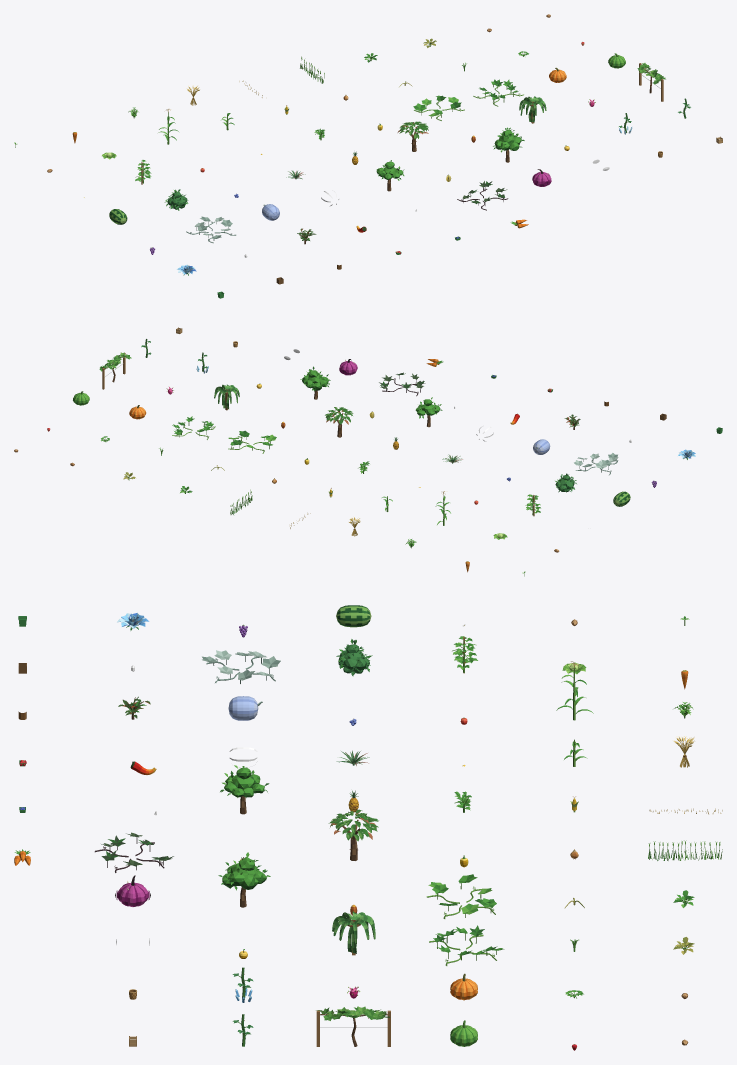
The model's file is FarmHeistCrops.glb.
The picture shows the model from 3 angles, top to bottom: view 1: azimuth 30°, elevation 25°; view 2: azimuth 150°, elevation 25°; view 3: azimuth 270°, elevation 25°; orthographic projection. The views are drawn at different scales.
Parts seen in each view (by area): view 1: AppleTree, PumpkinVine; view 2: AppleTree, MoonVine; view 3: AppleTree, GrapeTrellis, StarfruitTree, CocoaTree, MoonVine, DragonfruitCactus, PumpkinVine, BlueberryBush, DragonVine, MelonVine.
Part boxes in pixels (x1,y1,x2,y2): AppleTree: (493, 127, 524, 162); PumpkinVine: (413, 95, 464, 120); AppleTree: (300, 366, 330, 399); MoonVine: (574, 453, 618, 475); AppleTree: (218, 852, 270, 907); GrapeTrellis: (316, 1006, 390, 1046); StarfruitTree: (220, 765, 269, 814); CocoaTree: (328, 809, 378, 860); MoonVine: (202, 650, 280, 683); DragonfruitCactus: (332, 911, 375, 955); PumpkinVine: (426, 874, 496, 918); BlueberryBush: (336, 639, 372, 676); DragonVine: (94, 832, 173, 872); MelonVine: (429, 925, 504, 965).
Size of the model in its own units: 130 by 10.42 by 89.94.
2 materials, 1 textured.
